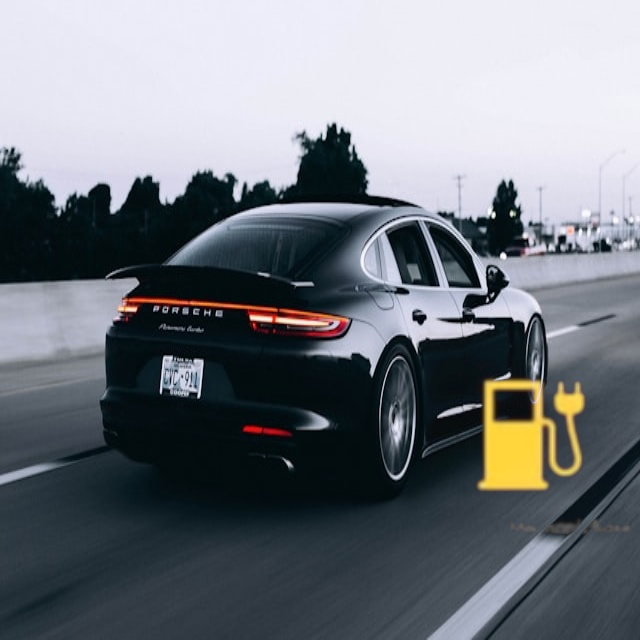symbol: (424, 329, 640, 545)
